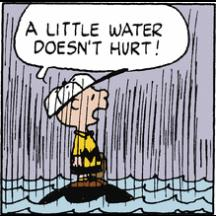charlie: (42, 72, 110, 188)
